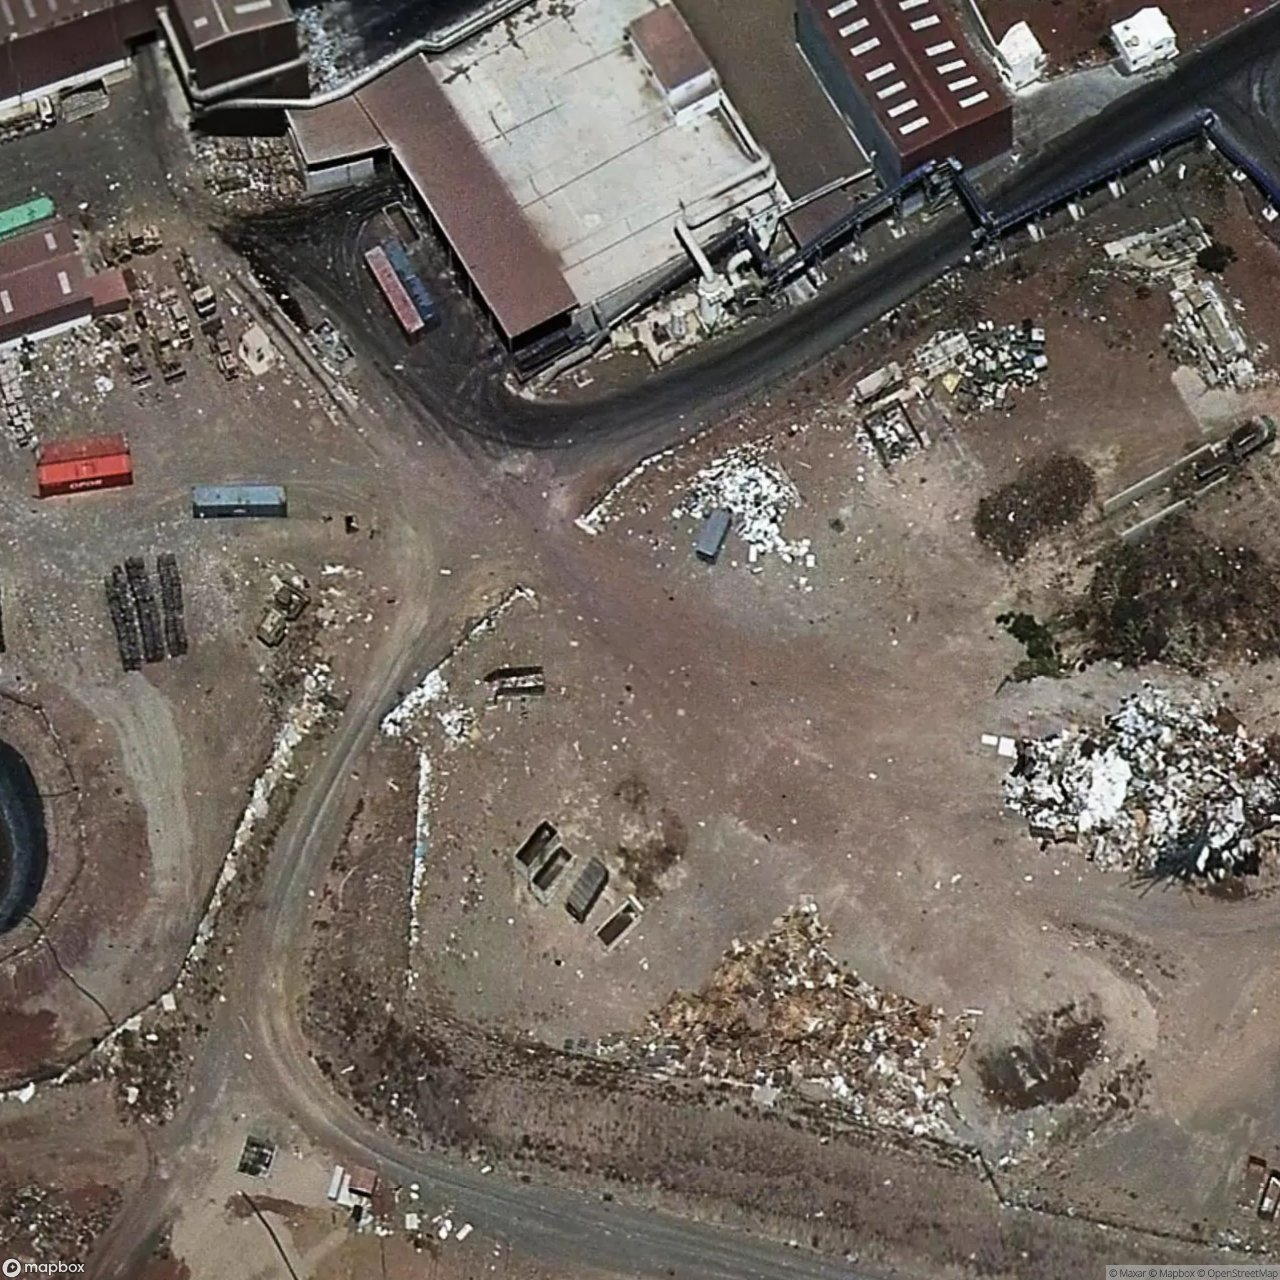dump_site: (972, 668, 1280, 898), (668, 436, 829, 600)
